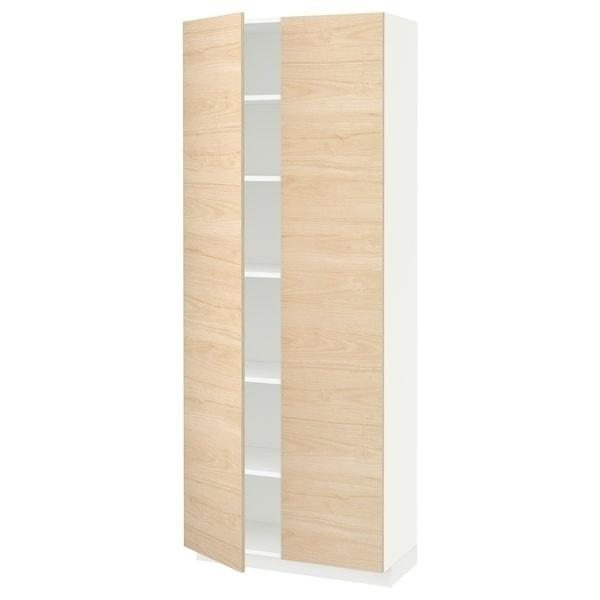cabinet_door: (282, 15, 384, 566), (183, 16, 244, 555)
